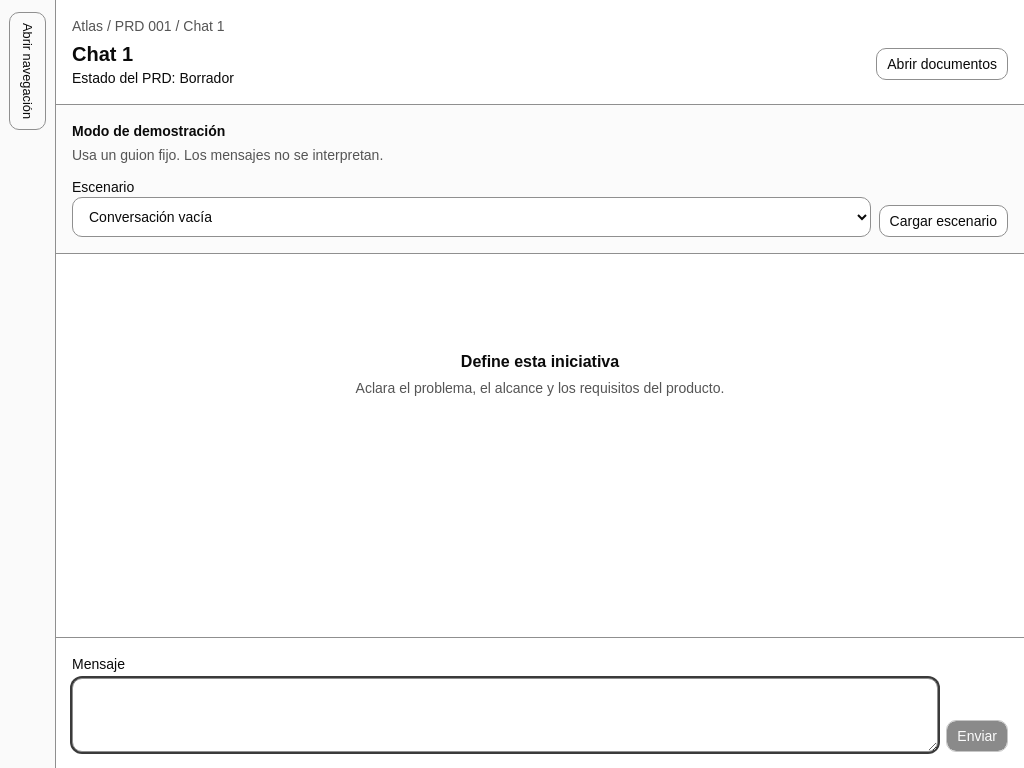
WorkspaceShell › muestra sólo acciones válidas y permite editar o volver durante la revisión
Expected: the text "Estado del PRD: Borrador" is shown, [72, 68, 234, 88]
Click the button "Abrir documentos".
click(942, 64)  # box [876, 48, 1008, 80]
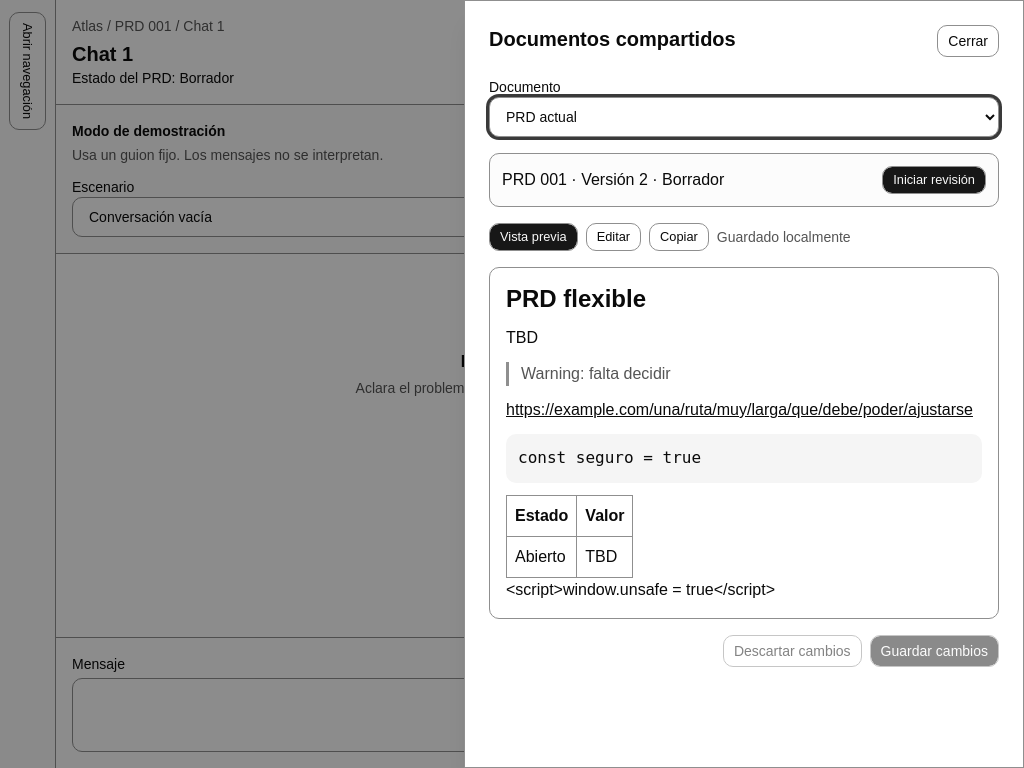
Expected: the button "Finalizar PRD" is not shown
Result: the button "Iniciar revisión" is shown
Click the button "Iniciar revisión".
click(934, 180)  # box [882, 166, 986, 194]
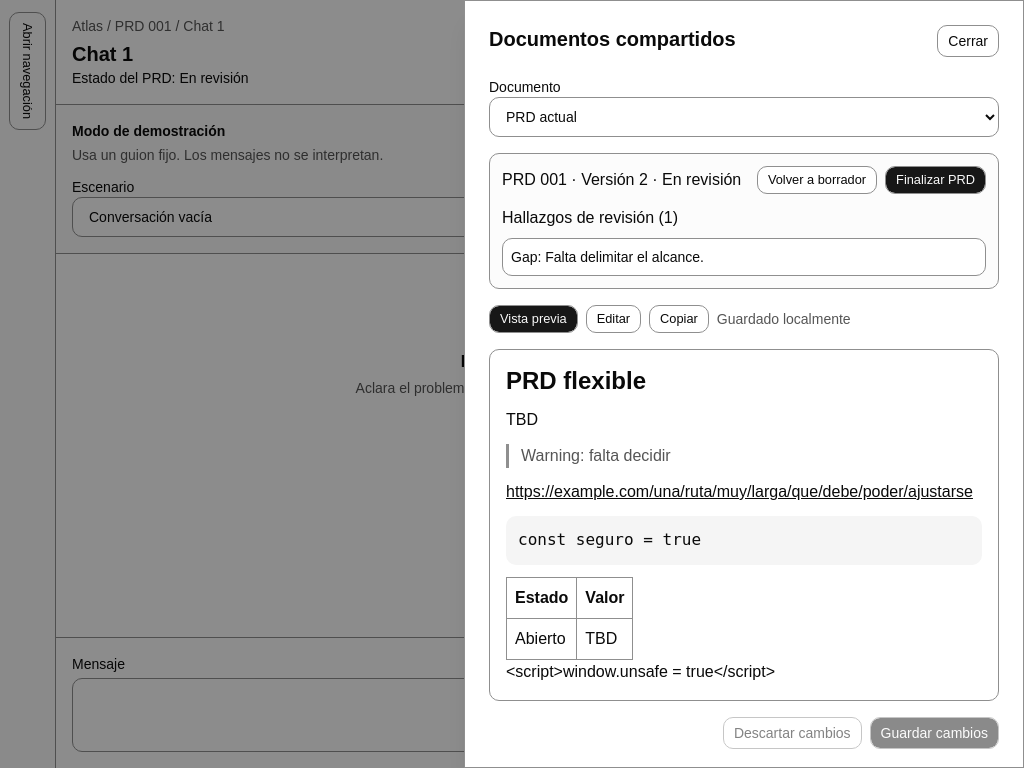
Result: the tab "Editar" is shown at [586, 305, 641, 333]
Result: the text "PRD 001 · Versión 2 · En revisión" is shown at [502, 168, 741, 192]
Result: the list item "Gap: Falta delimitar el alcance." is shown at [502, 238, 986, 276]
Click the button "Volver a borrador".
click(817, 180)  # box [757, 166, 877, 194]
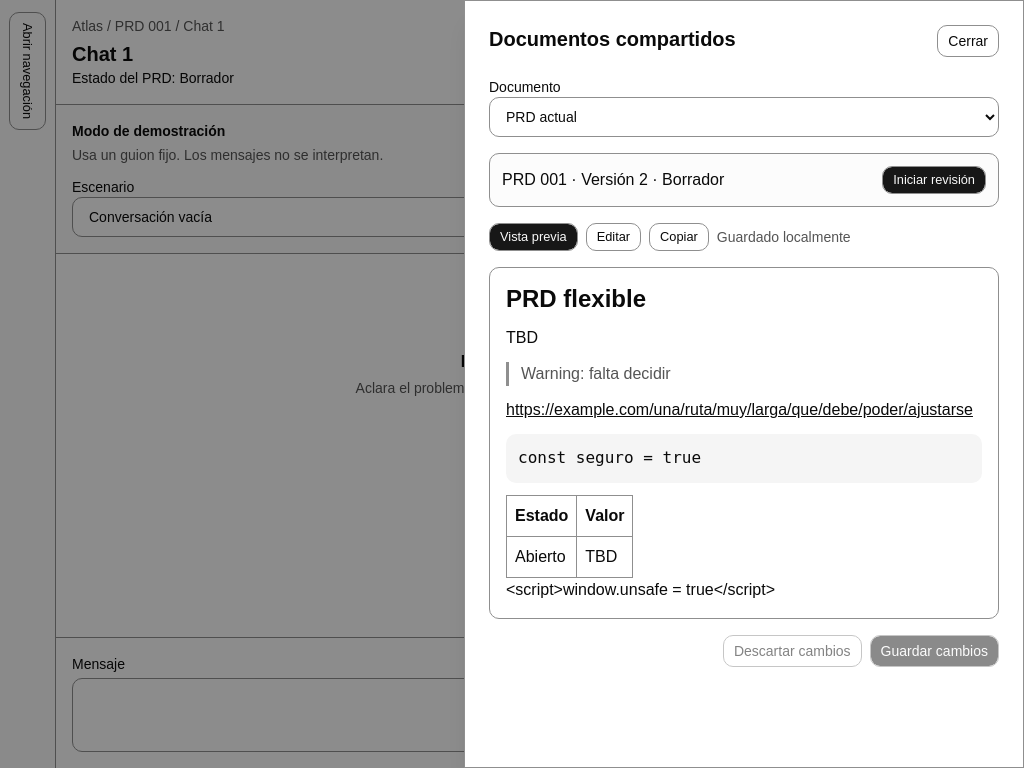
Result: the text "PRD 001 · Versión 2 · Borrador" is shown at [502, 168, 724, 192]
Result: the button "Finalizar PRD" is gone
